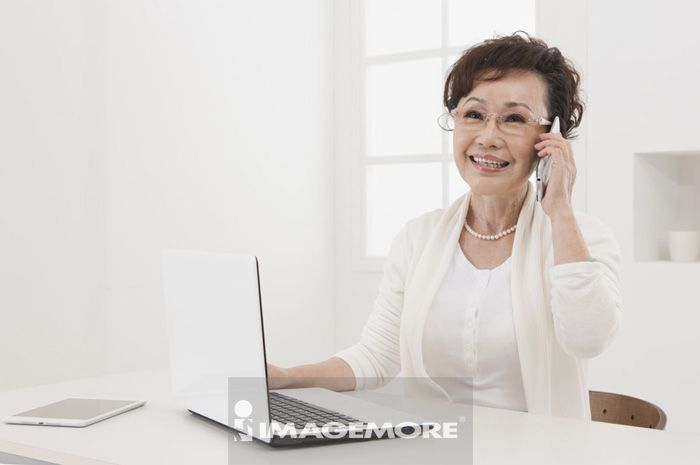phone: (537, 114, 562, 201)
talk: (453, 91, 578, 224)
